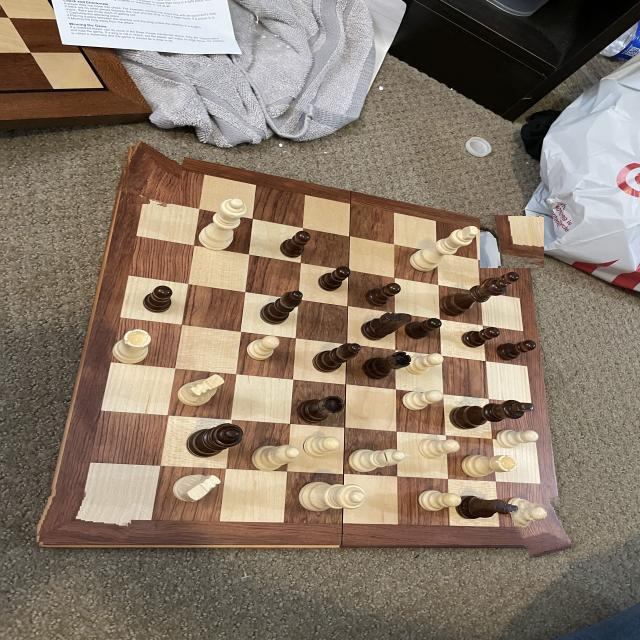chess-table-corners: (37, 490, 132, 542), (514, 496, 587, 558), (120, 133, 182, 204), (480, 216, 544, 268)
